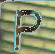Parking: (9, 3, 46, 53)
